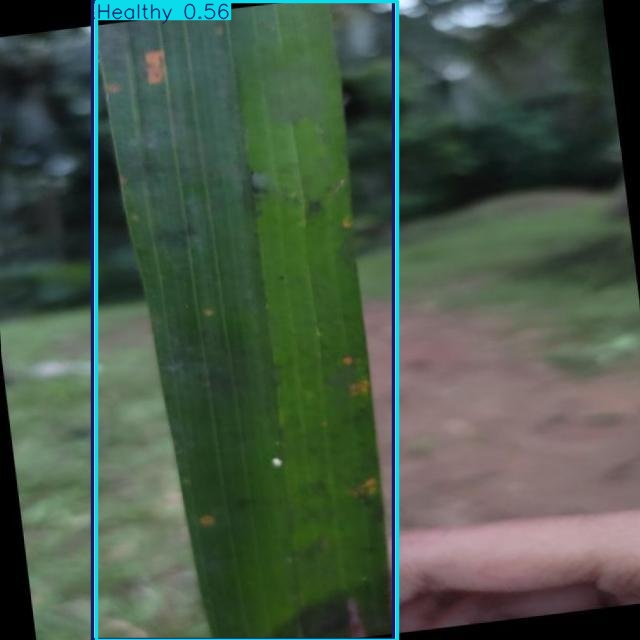Healthy: (97, 2, 398, 640)
Kalium: (95, 1, 396, 640)
nitrogen: (93, 1, 393, 640)
